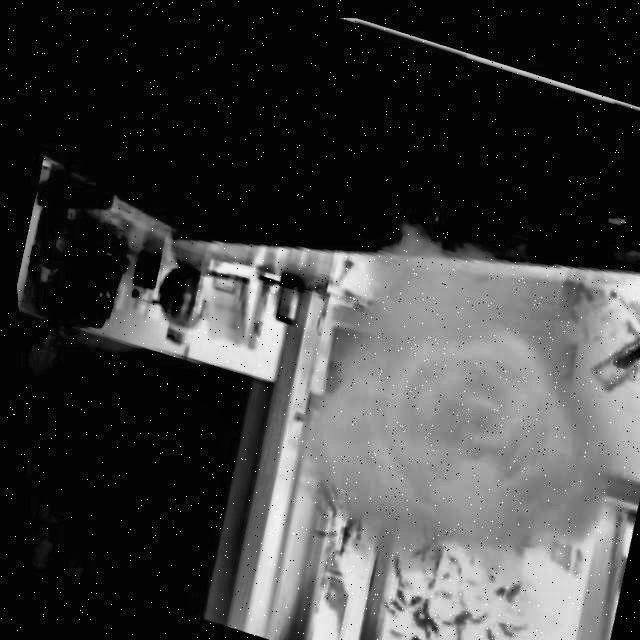Smoke: (244, 174, 640, 609)
